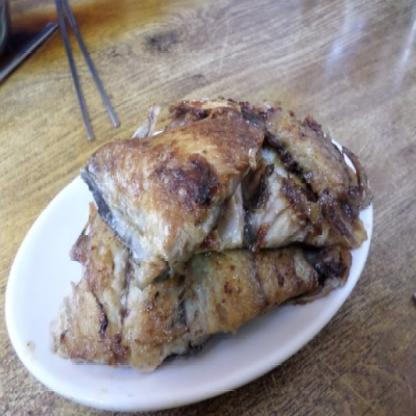Peixe: (35, 111, 386, 364)
